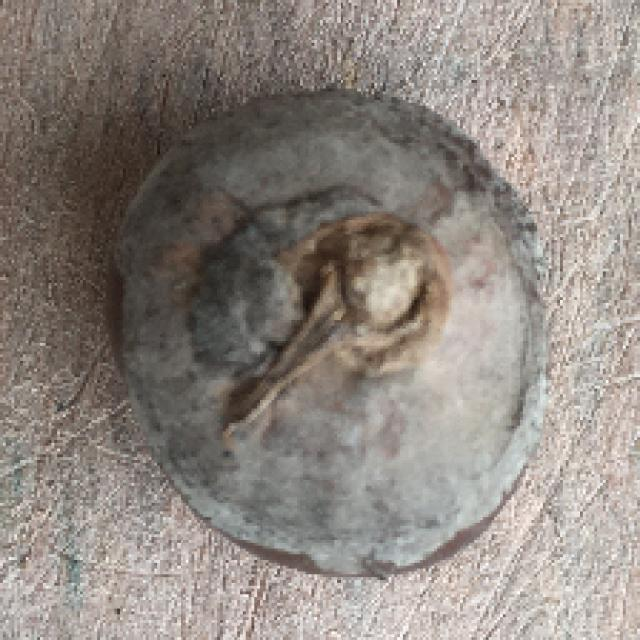damagedHazelnut: (113, 87, 561, 585)
